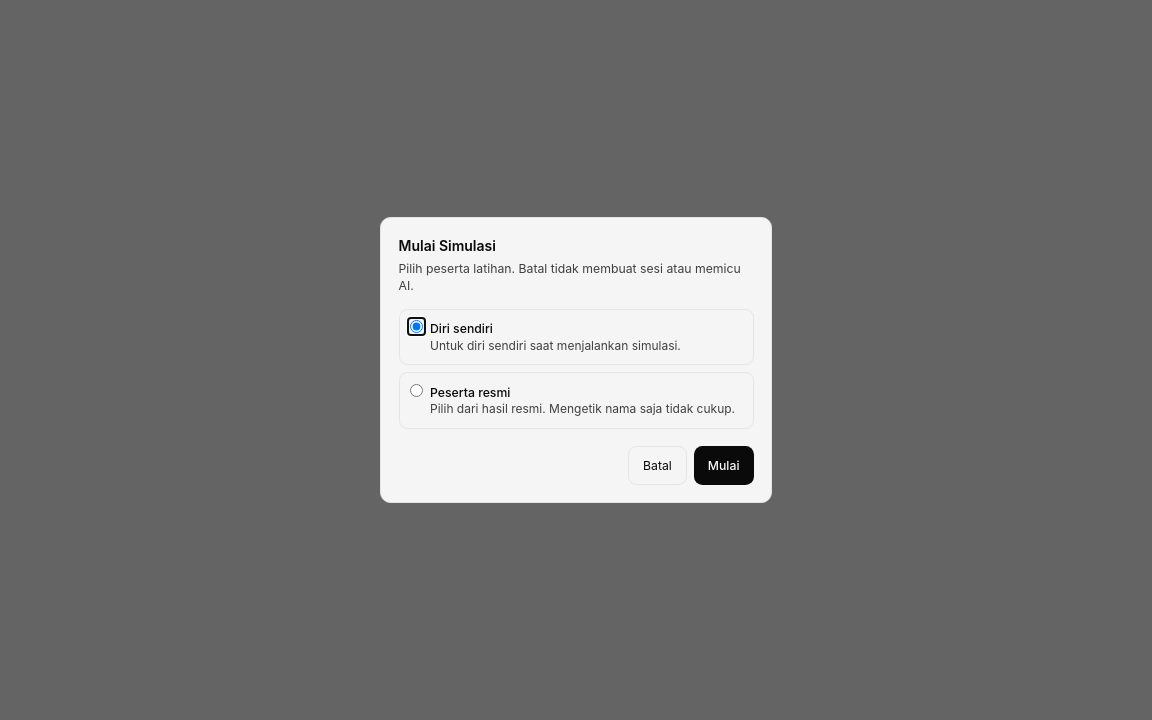
Scenario: SimulationSubjectPicker › invalidates selected participant when search edited
The width and height of the screenshot is (1152, 720).
Click the radio button labelled "Peserta resmi": (416, 390) [410,384,423,397]
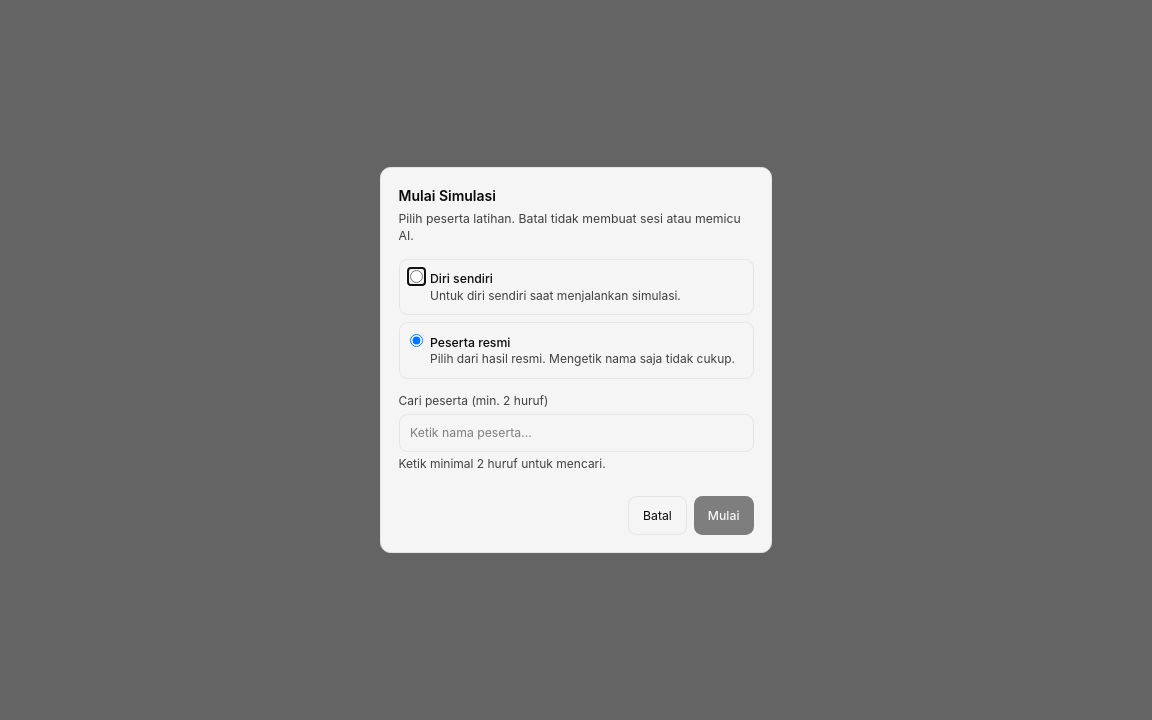
In the field labelled "Cari peserta (min. 2 huruf)": (576, 433) [398,414,754,452], type "And"
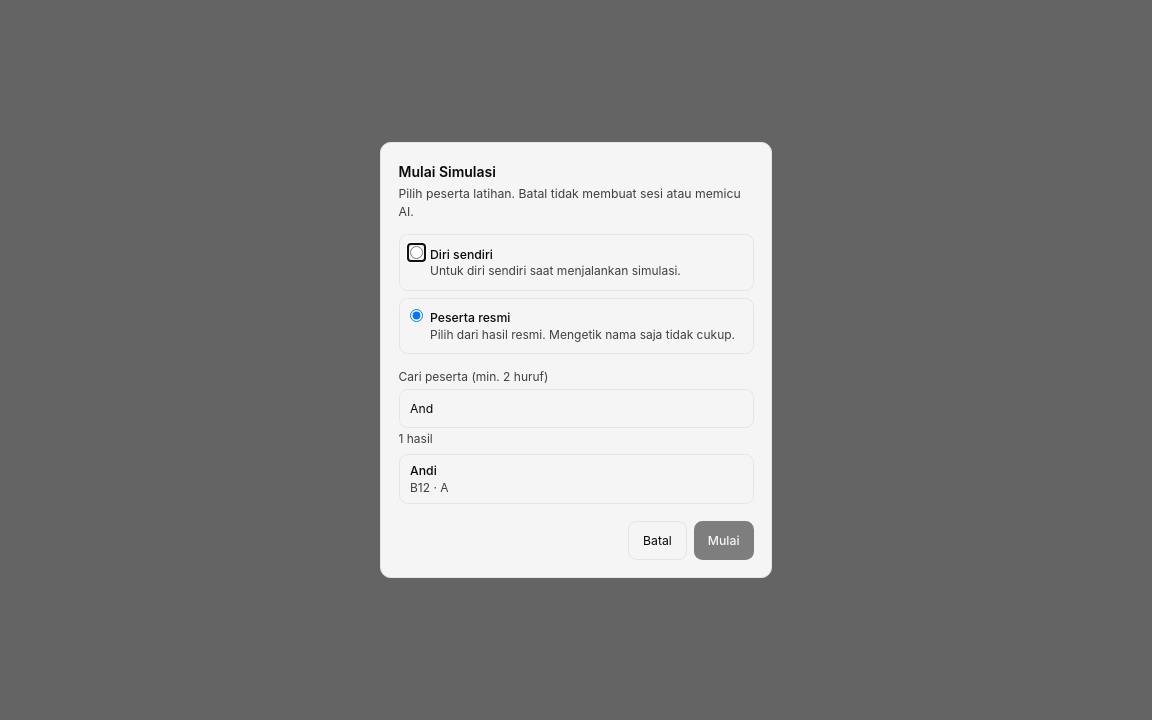
Check: the text "Andi" is shown
Click the text "Andi": (423, 470) [410,463,437,478]
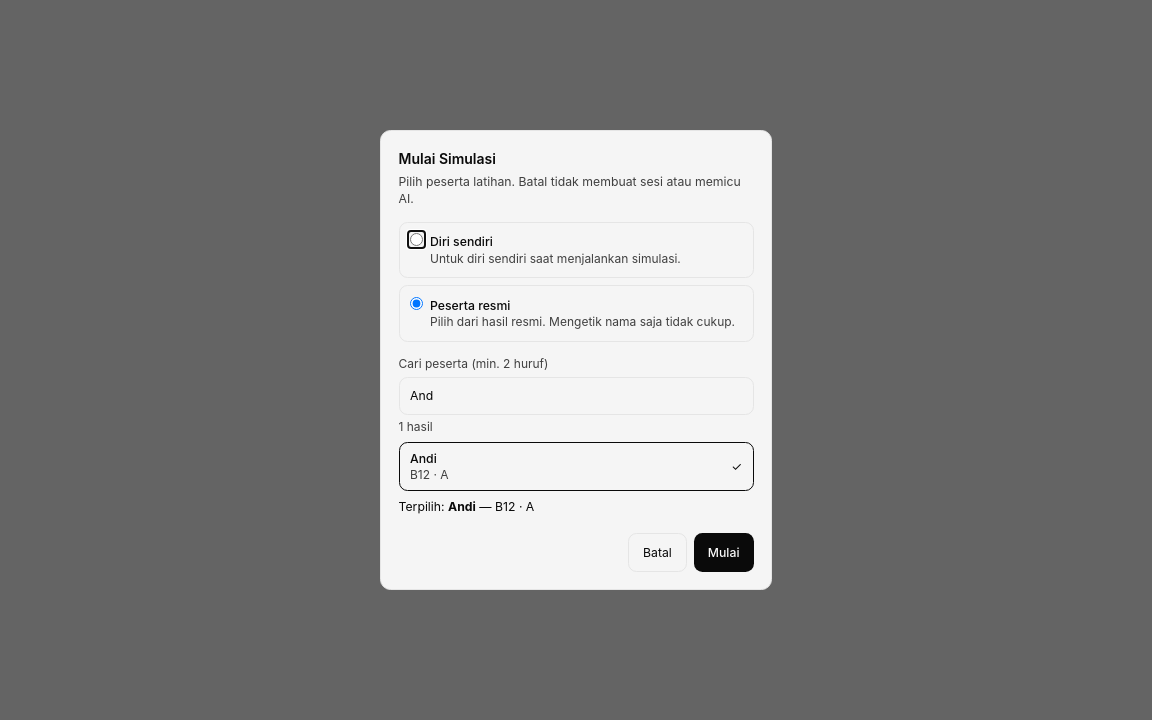
Check: the text "Terpilih: Andi — B12 · A" is shown, box [398,499,534,514]
Replace the text in the field labelled "Cari peserta (min. 2 huruf)" with "Andi X": (576, 396) [398,377,754,415]
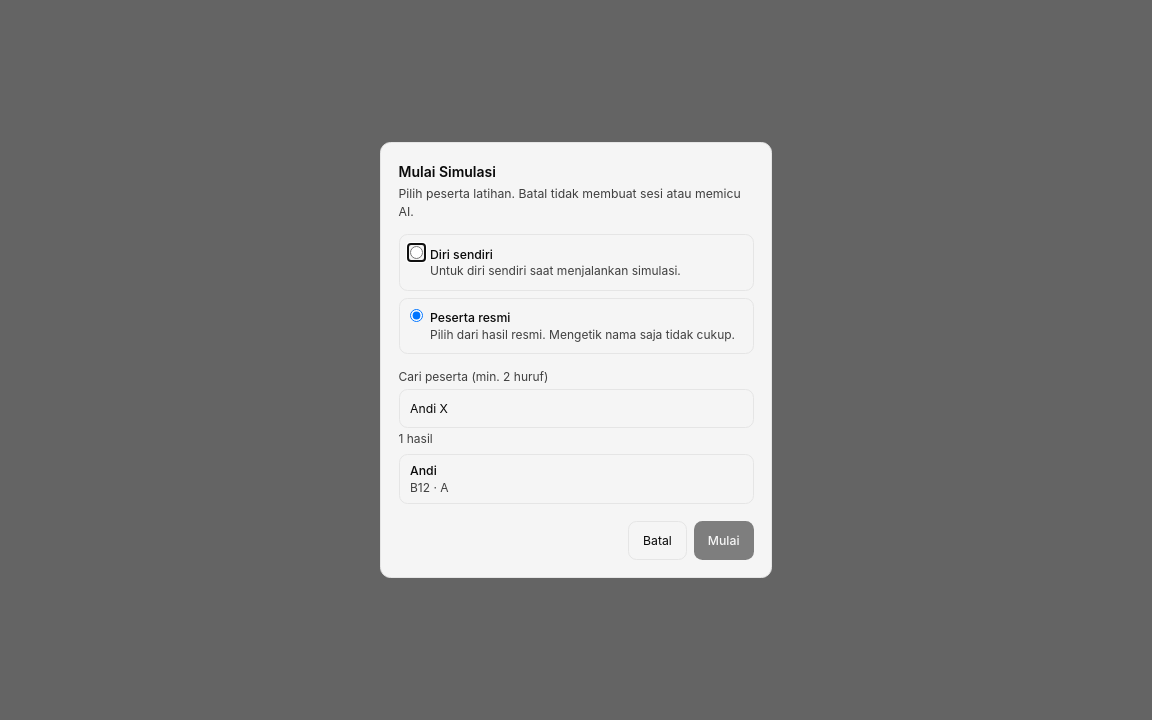
Check: the text "Terpilih" is gone
